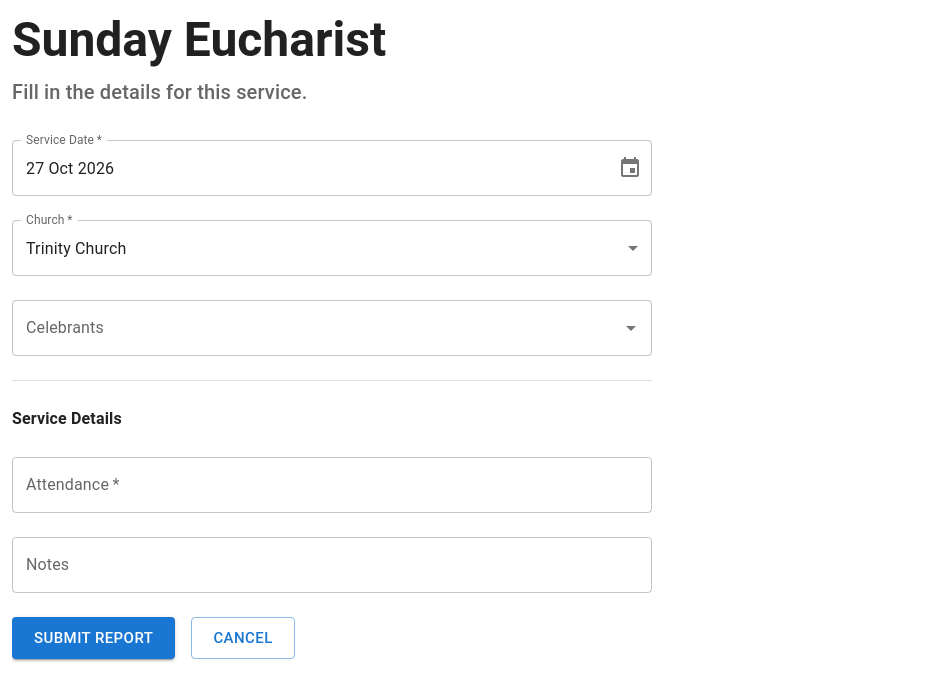
Test: ServiceSubmitPage › submits successfully and shows the success state
The width and height of the screenshot is (941, 679).
Expected: the heading "Sunday Eucharist" is shown, [12,11,386,68]
Fill in the required attendance field
Type "50" into the number field labelled "Attendance *". click: (332, 485)
box: [12,457,652,513]
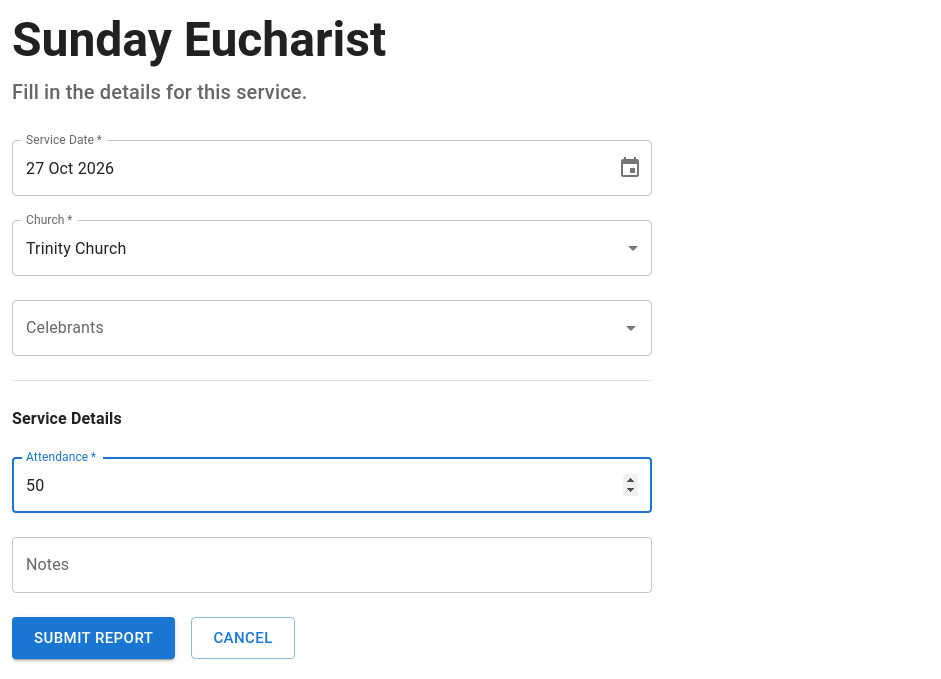
Click the button "Submit Report". click: (94, 638)
box: [12,617,175,659]
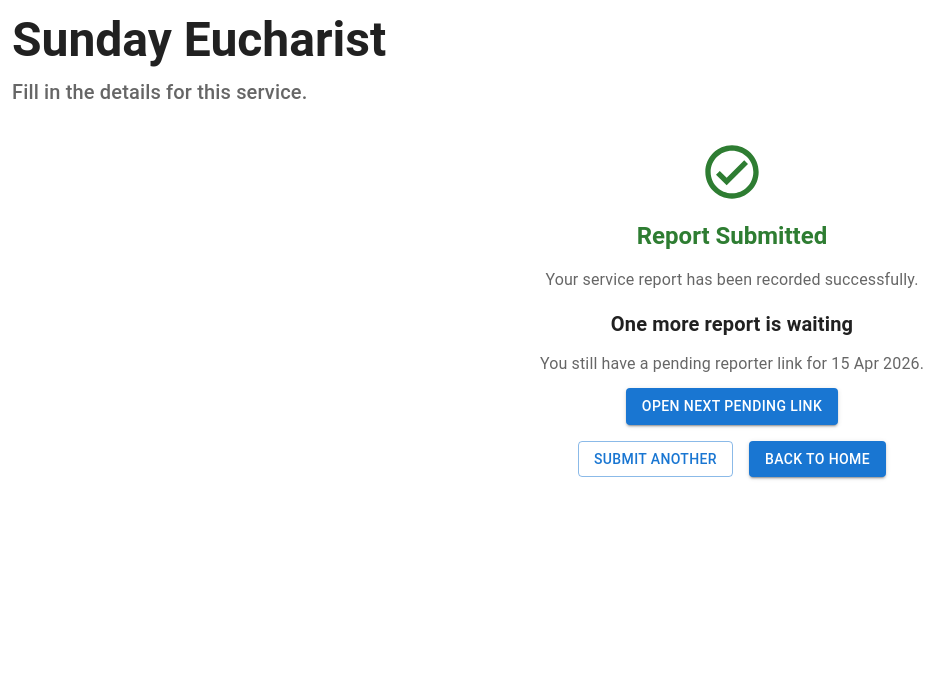
Expected: the heading "Report Submitted" is shown, [637,220,827,252]
Expected: the text "You still have a pending reporter link for 15 Apr 2026." is shown, [540,352,924,376]
